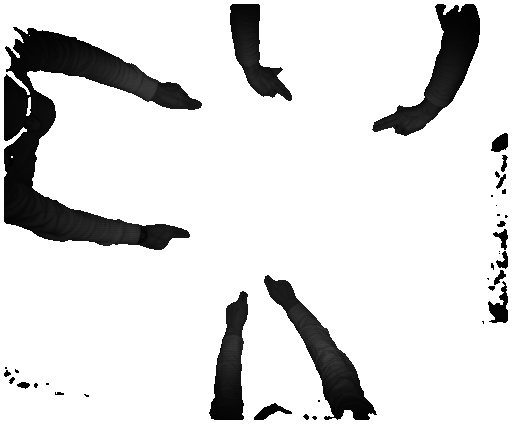hand: (247, 66, 295, 103), (374, 105, 430, 135), (158, 77, 207, 111), (264, 272, 302, 311), (144, 224, 191, 255), (224, 288, 247, 333)
